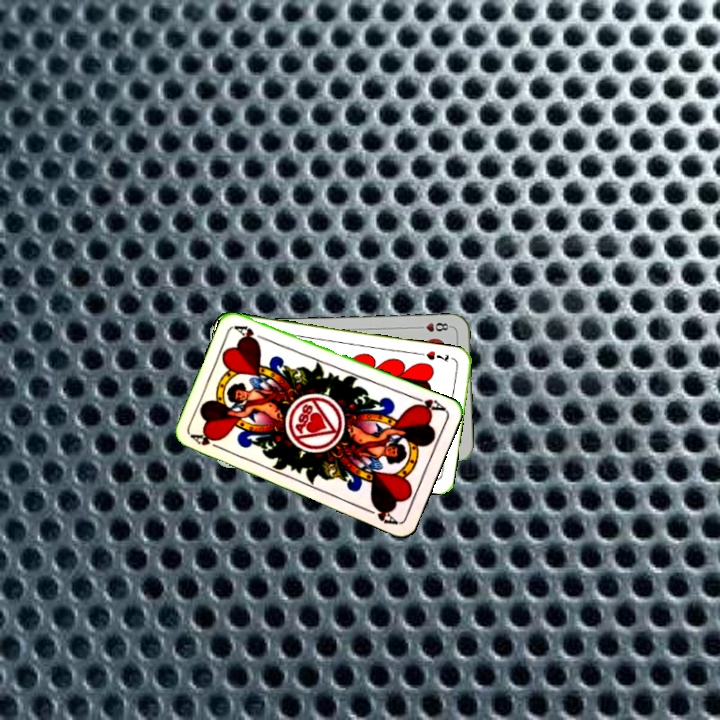H7: (422, 347, 451, 364)
H8: (413, 319, 454, 334)
HA: (408, 392, 448, 415), (188, 430, 227, 453)
